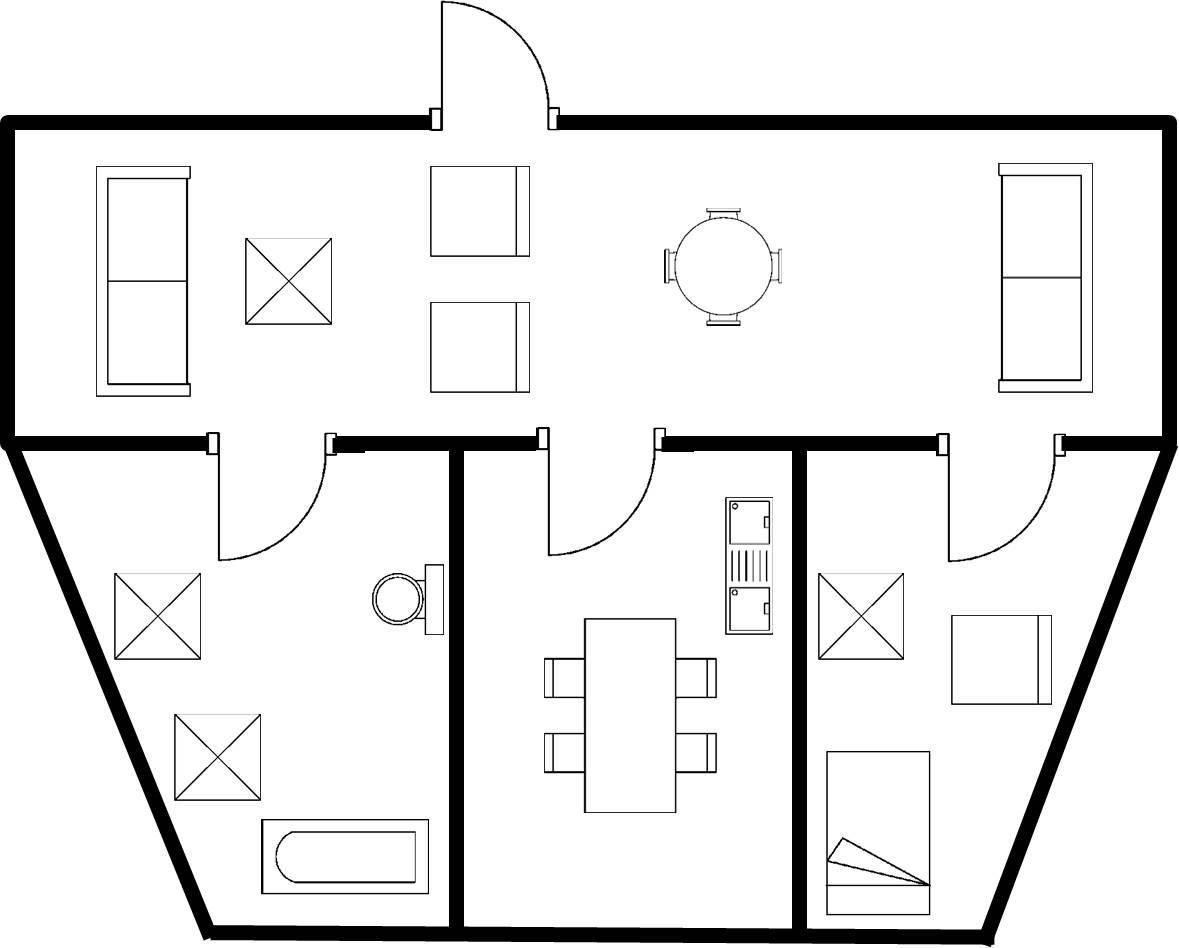sink: (717, 490, 781, 640)
